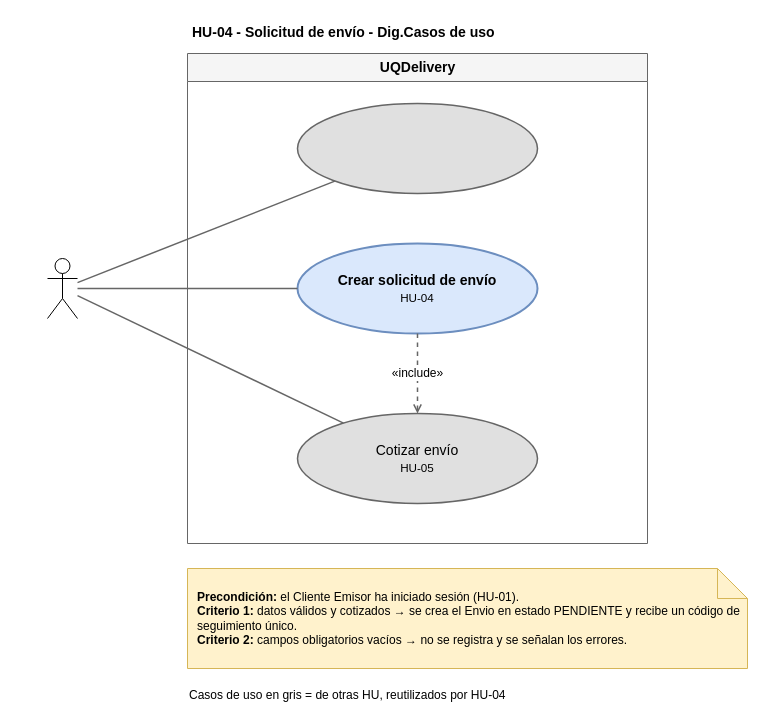
The diagram is 765 pixels wide and 724 high, and some of its shapes have lost their labels. Here are the shapes that lost their labels. From the top down, the box of each, then its label:
(296, 102, 538, 194): Iniciar sesión HU-01
(46, 258, 78, 318): Cliente Emisor
